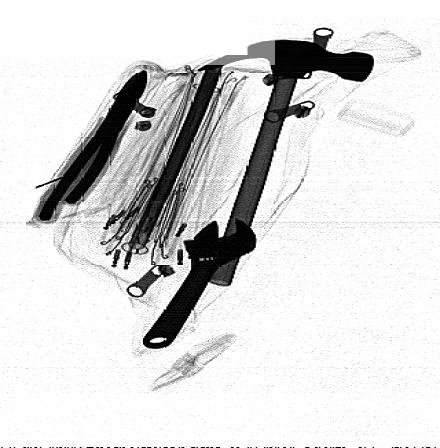Hammer: (200, 41, 378, 288)
Pliers: (30, 63, 158, 228)
Wrench: (143, 218, 257, 350)
